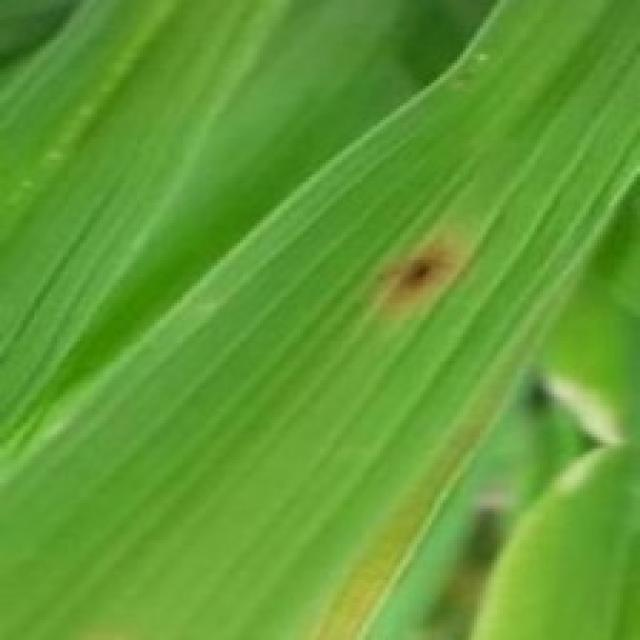Rice___Brown_Spot: (0, 0, 637, 637)
